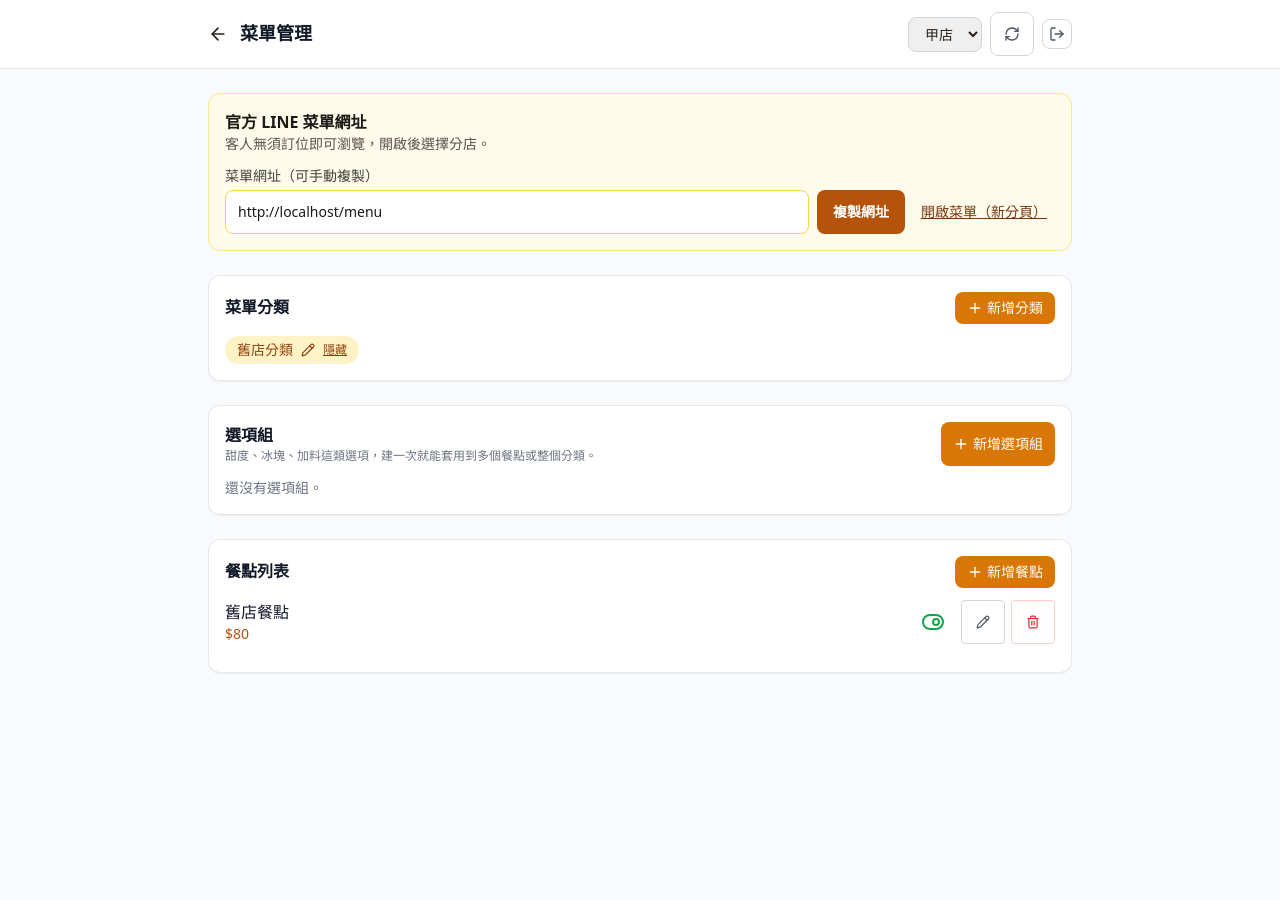
菜單分店權限變更 › 編輯 對話框在分店被移除的同次畫面提交即隱藏
The image size is (1280, 900).
expect the text "舊店餐點" is shown: met, box [225,600,289,624]
Click the button named "編輯 舊店餐點": (983, 622) [961,600,1005,644]
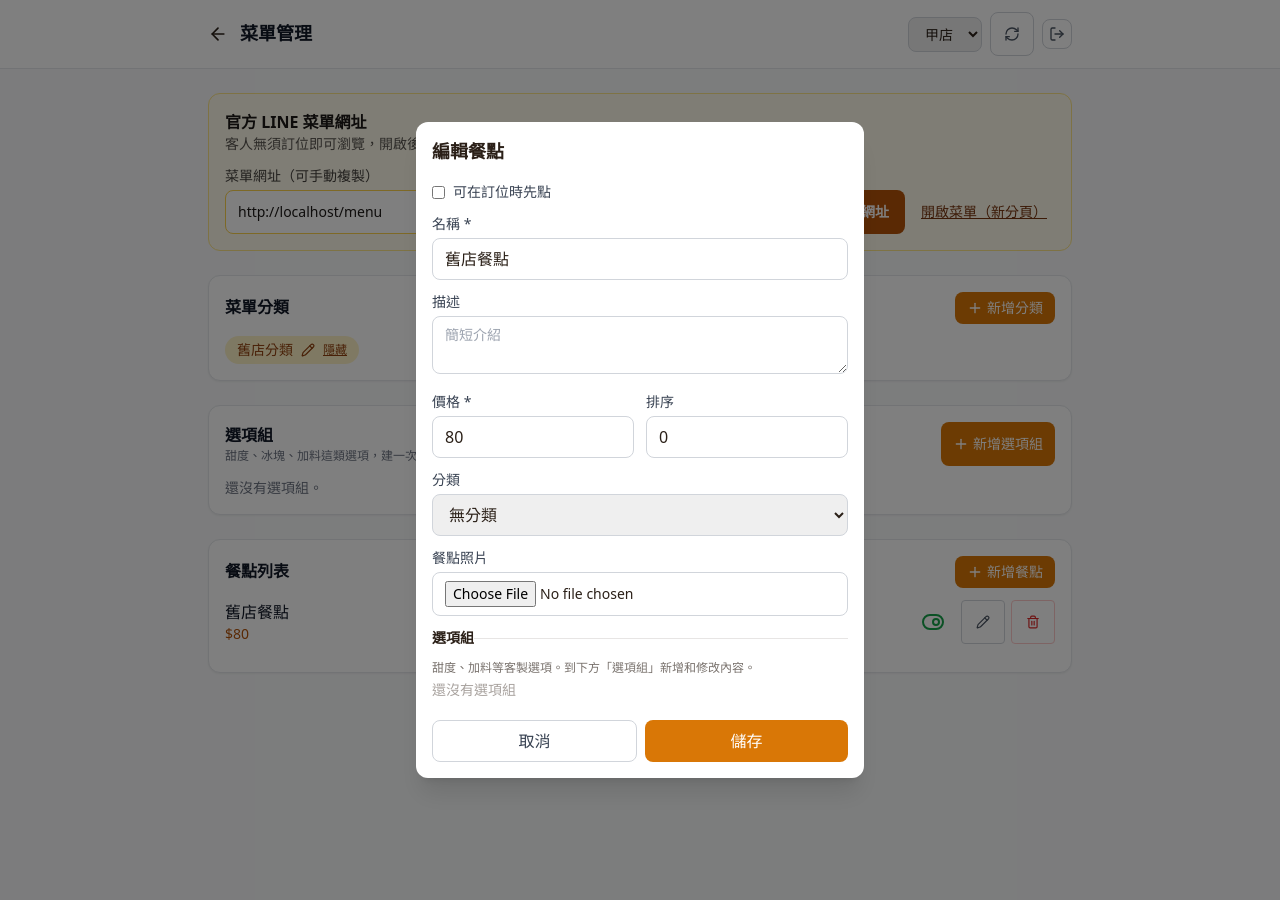
expect the heading "編輯餐點" is shown: met, box [432,142,504,162]
